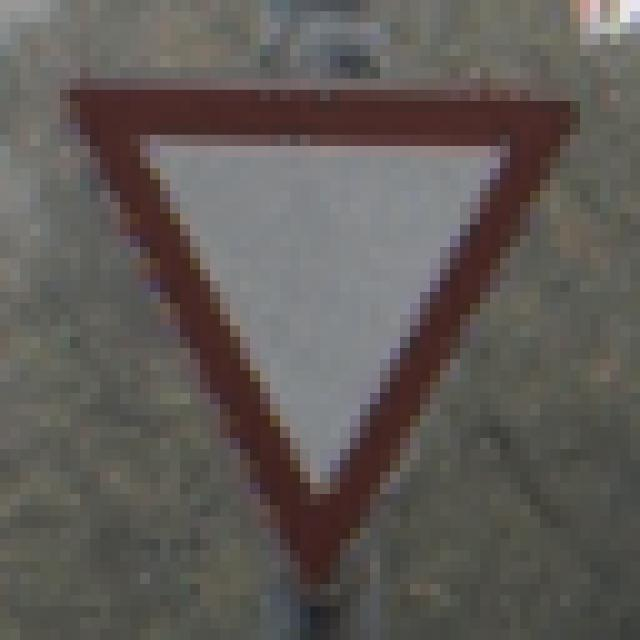Give Way: (51, 68, 591, 585)
